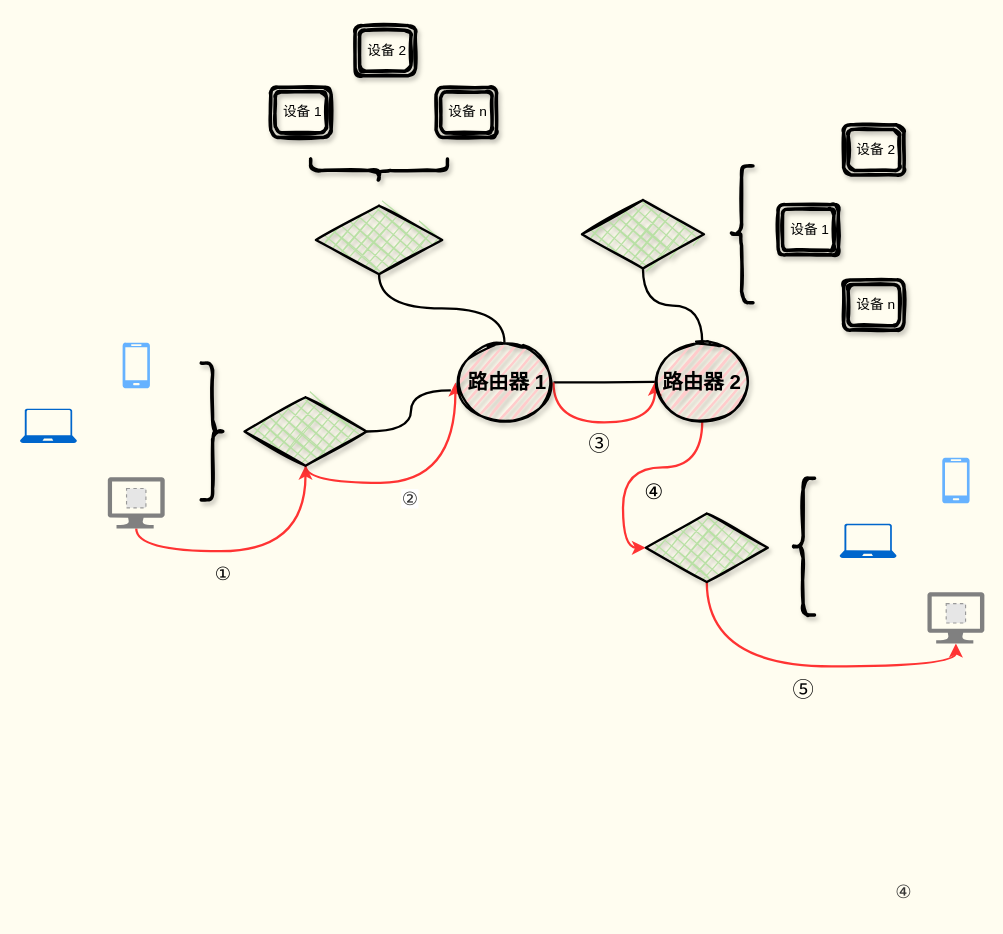
The diagram is 1003 pixels wide and 934 high, and some of its shapes have lost their labels. Grey dashed boxes stand in for pictures. Each missing label, with the centre of its shape:
"交换机 1" belongs at point 306,432.
"交换机 2" belongs at point 380,241.
"交换机 3" belongs at point 707,549.
"交换机 4" belongs at point 643,235.
